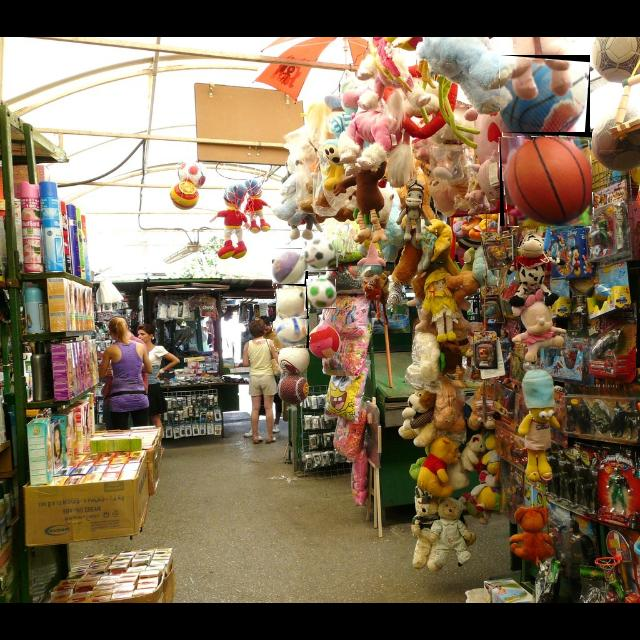Football: (500, 132, 592, 226), (500, 55, 590, 137), (272, 248, 308, 288), (302, 237, 338, 271), (273, 316, 309, 348), (276, 284, 308, 318), (306, 279, 336, 309)
